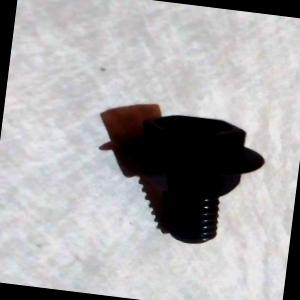parafuso: (108, 100, 274, 252)
